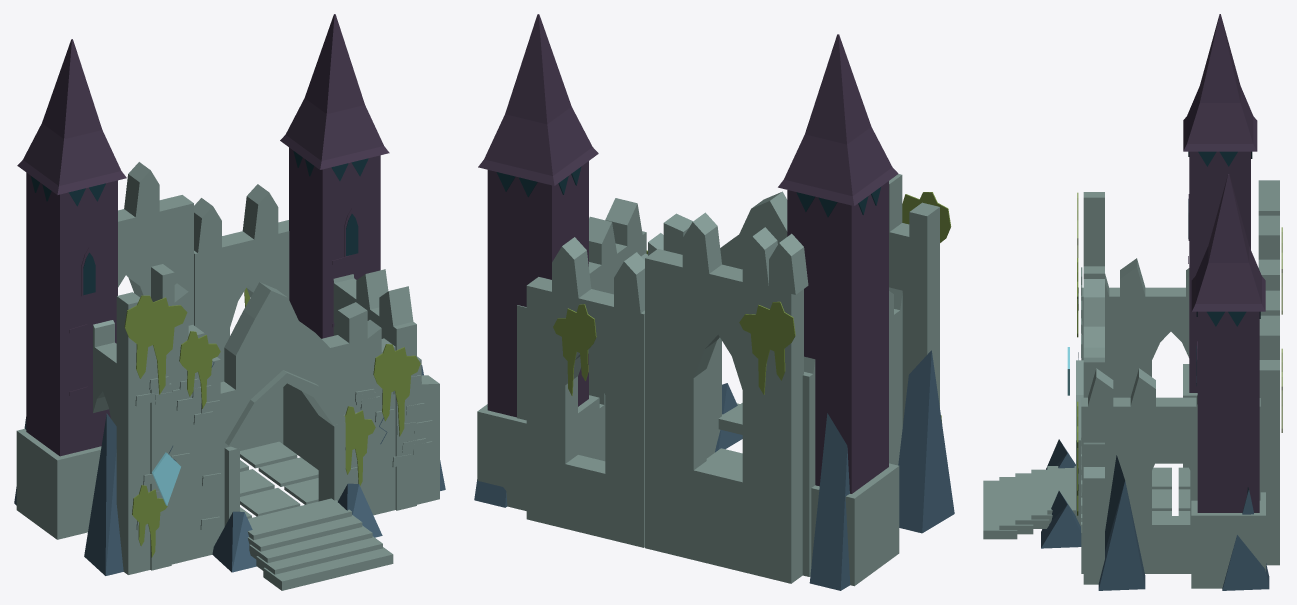
Rendered from building.glb.
The picture shows the model from 3 angles, left to right: view 1: azimuth 30°, elevation 25°; view 2: azimuth 150°, elevation 25°; view 3: azimuth 270°, elevation 25°; orthographic projection. The views are drawn at different scales.
Parts seen in each view (by area): view 1: Building_Castle_RuinedWalls, Building_Castle_Watchtowers, Building_Castle_MossAndMasonry, Building_Castle_NaveFloor; view 2: Building_Castle_RuinedWalls, Building_Castle_Watchtowers, Building_Castle_MossAndMasonry; view 3: Building_Castle_RuinedWalls, Building_Castle_Watchtowers, Building_Castle_MossAndMasonry, Building_Castle_NaveFloor.
Part boxes in pixels (x1=…): Building_Castle_RuinedWalls: x1=14, y1=162, x2=445, y2=590; Building_Castle_Watchtowers: x1=16, y1=14, x2=389, y2=539; Building_Castle_MossAndMasonry: x1=31, y1=151, x2=433, y2=557; Building_Castle_NaveFloor: x1=240, y1=441, x2=318, y2=518; Building_Castle_RuinedWalls: x1=474, y1=174, x2=954, y2=590; Building_Castle_Watchtowers: x1=477, y1=14, x2=899, y2=586; Building_Castle_MossAndMasonry: x1=496, y1=166, x2=951, y2=440; Building_Castle_RuinedWalls: x1=983, y1=180, x2=1279, y2=590; Building_Castle_Watchtowers: x1=1183, y1=14, x2=1265, y2=588; Building_Castle_MossAndMasonry: x1=1067, y1=151, x2=1282, y2=532; Building_Castle_NaveFloor: x1=1152, y1=467, x2=1190, y2=515.
Size of the model in its own units: 1.13 by 1.5 by 0.926.
